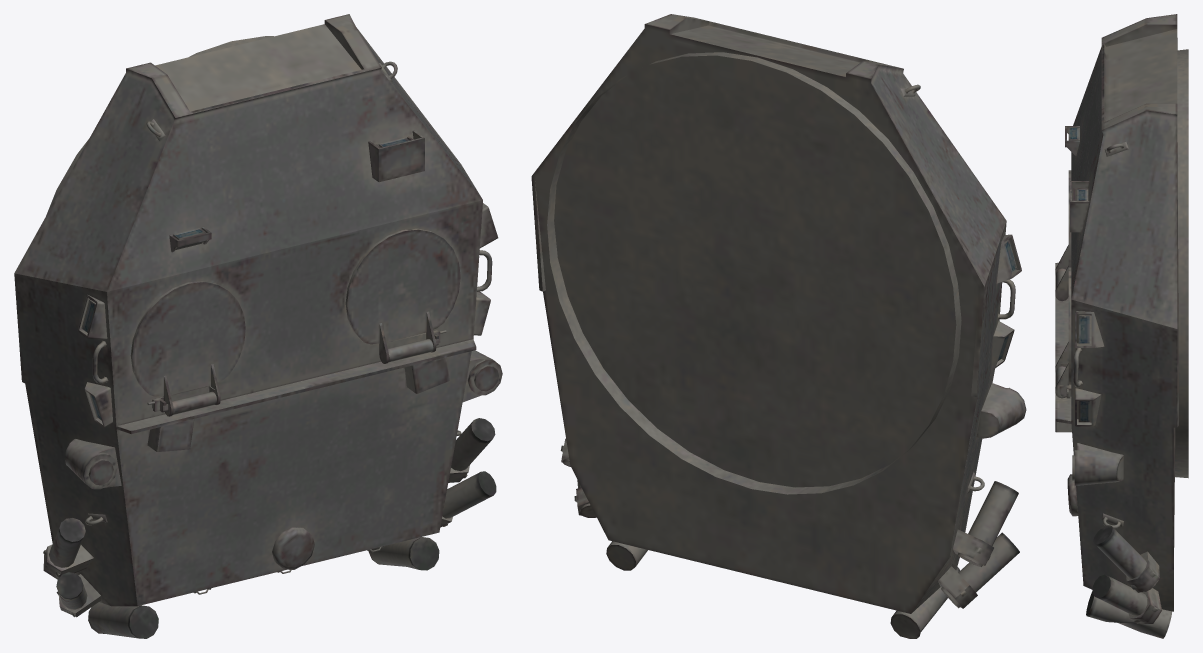
File: Turret_01.glb
The picture shows the model from 3 angles, left to right: view 1: azimuth 30°, elevation 25°; view 2: azimuth 150°, elevation 25°; view 3: azimuth 270°, elevation 25°; orthographic projection. The views are drawn at different scales.
Parts seen in each view (by area): view 1: set_0_group_0; view 2: set_0_group_0; view 3: set_0_group_0.
Part boxes in pixels (left/top/right/bottom): set_0_group_0: left=14, top=14, right=502, bottom=638; set_0_group_0: left=531, top=14, right=1026, bottom=638; set_0_group_0: left=1055, top=14, right=1188, bottom=638.
Size of the model in its own units: 1.83 by 2.16 by 0.5134.
1 material, 1 textured.
